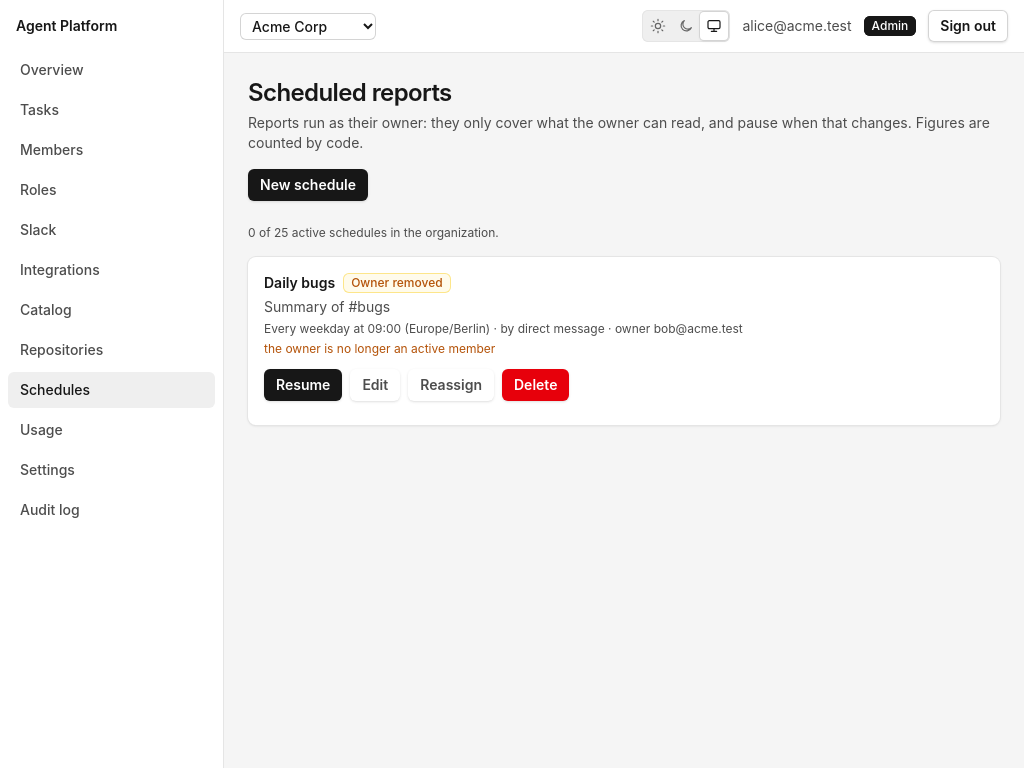
Test case: Schedules page › shows why a schedule paused and lets admins reassign it
expect the text "Owner removed" is shown: met, box [343,273,451,293]
expect the text "the owner is no longer an active member" is shown: met, box [264,341,495,356]
Click the button "Reassign". click: (451, 385)
box: [408,369,494,401]
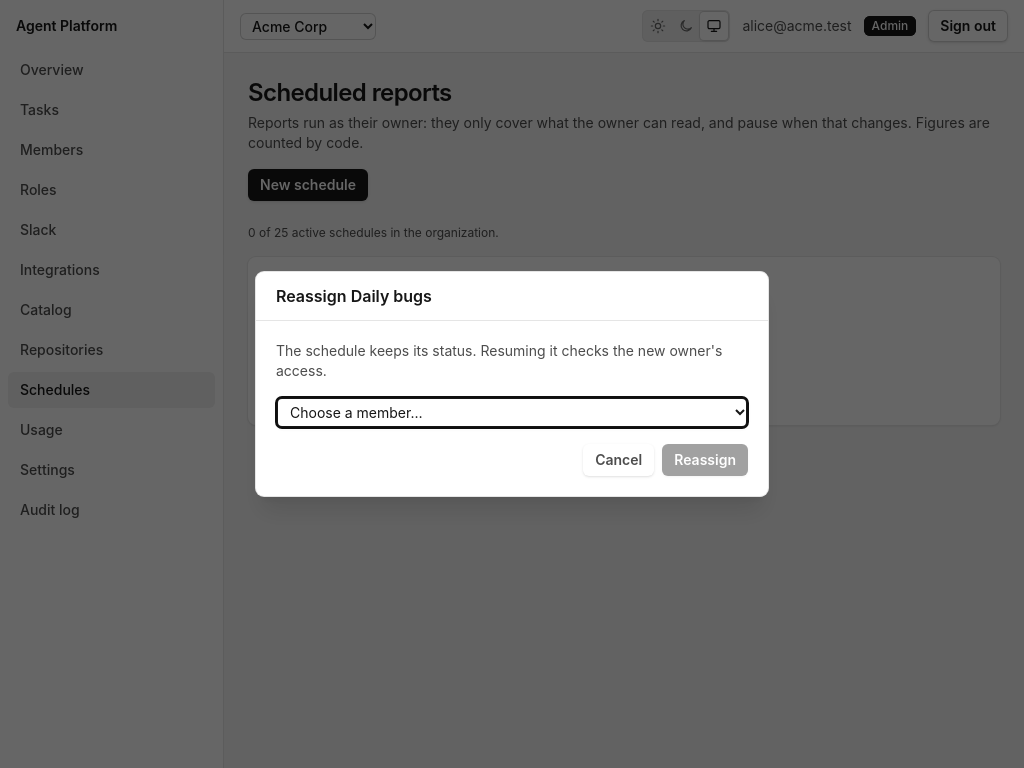
Select "quinn@acme.test" in the dropdown named "New owner". click: (512, 412)
box: [276,397,748,428]
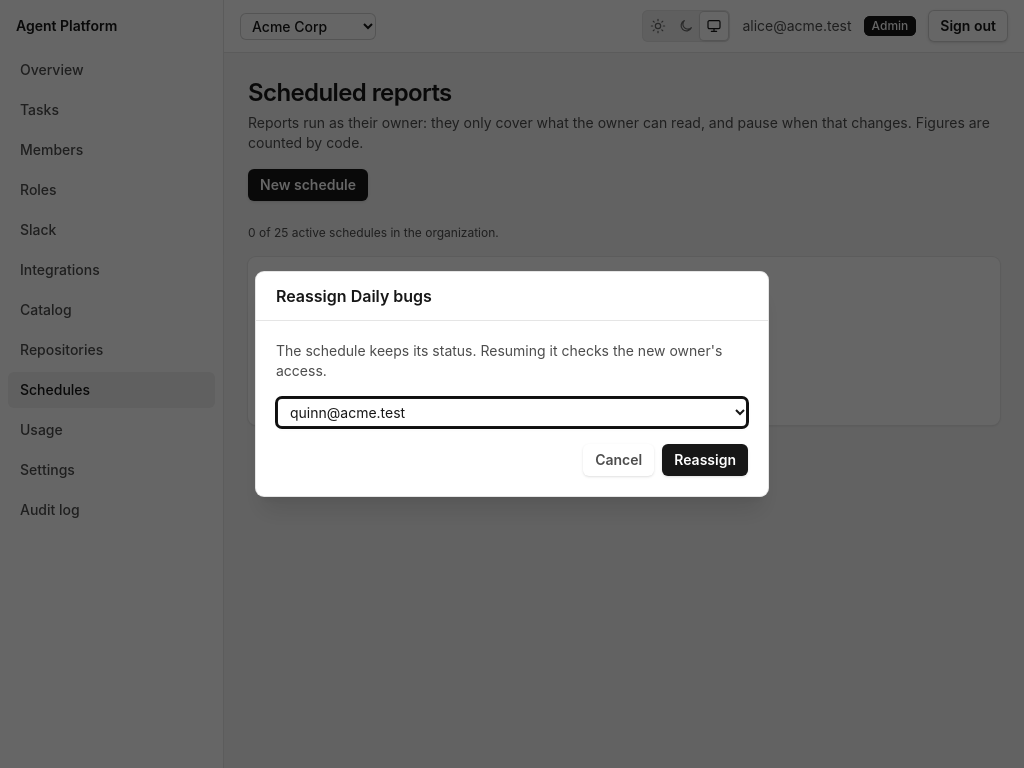
Click the button "Reassign". click: (705, 460)
box: [662,444,748,476]
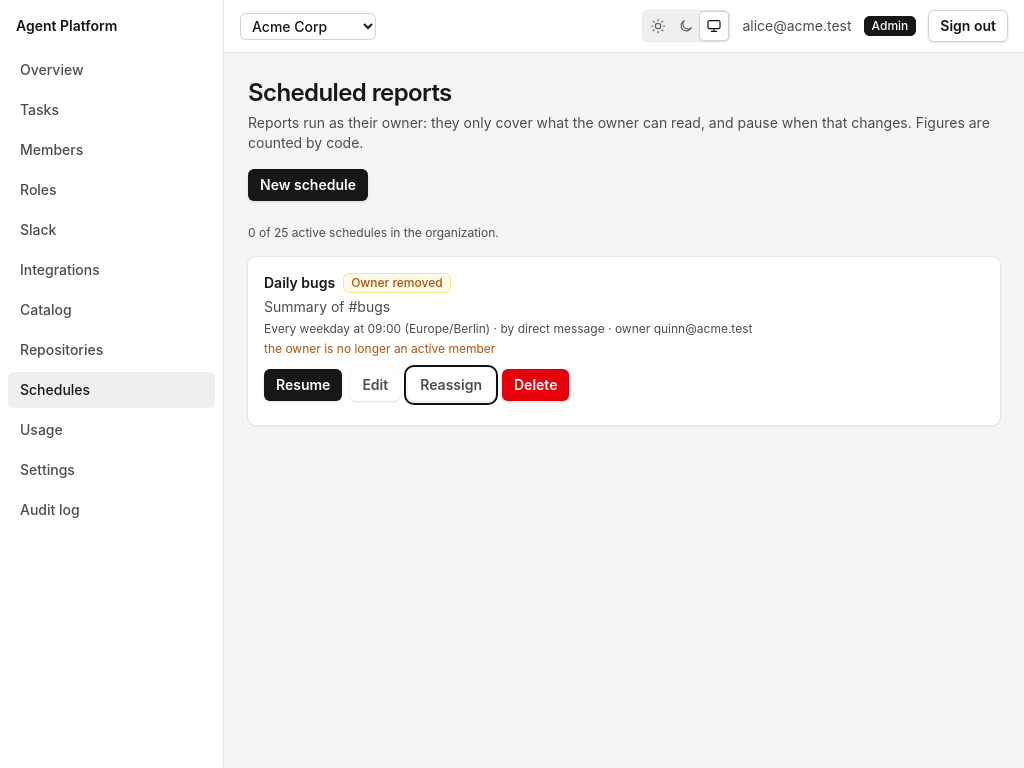
expect the text "owner quinn@acme.test" is shown: met, box [264,321,752,337]
